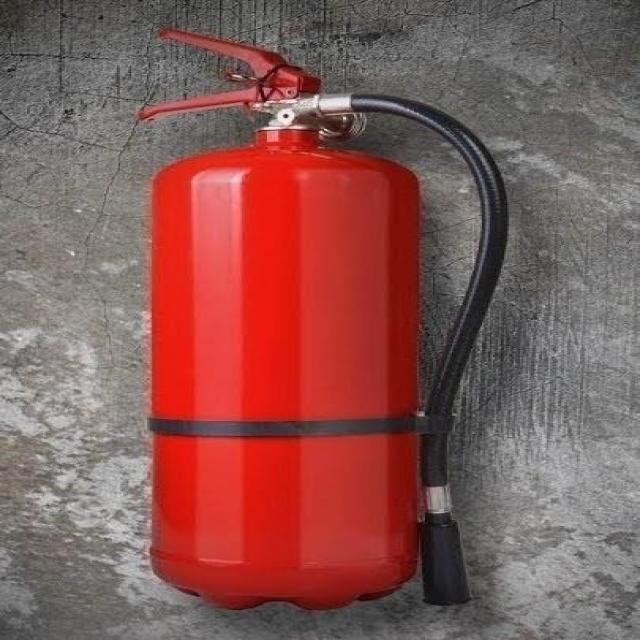fire_extinguisher: (130, 22, 514, 613)
